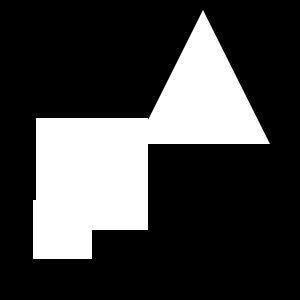circle: (36, 118, 148, 230), (33, 200, 92, 259), (49, 143, 96, 190)
triangle: (136, 10, 270, 144)
